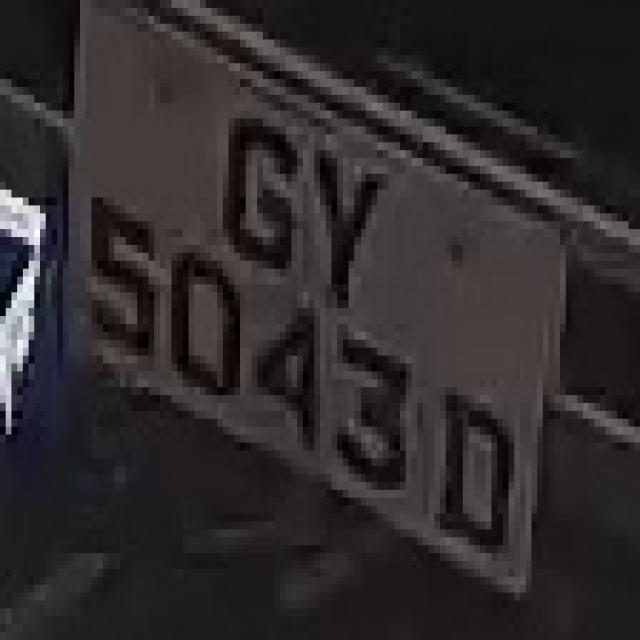0: (160, 221, 234, 411)
3: (326, 308, 411, 498)
4: (246, 269, 326, 450)
5: (86, 174, 154, 379)
D: (434, 348, 509, 553)
G: (200, 79, 297, 292)
Y: (303, 103, 383, 308)
